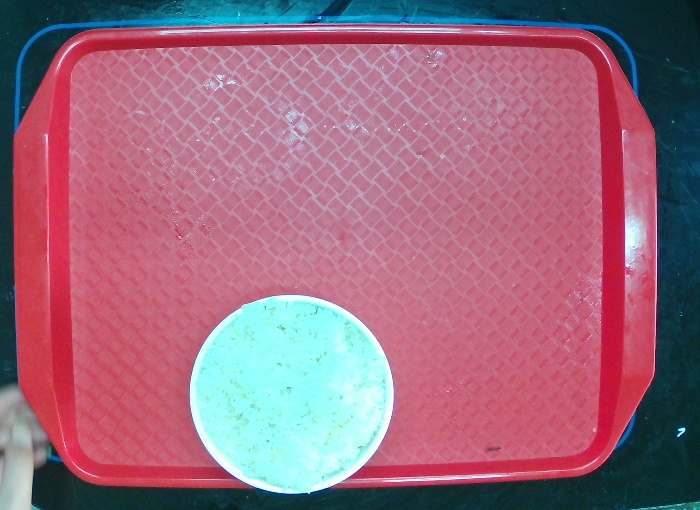YKMZ-Fan_Wan: (185, 290, 398, 501)
